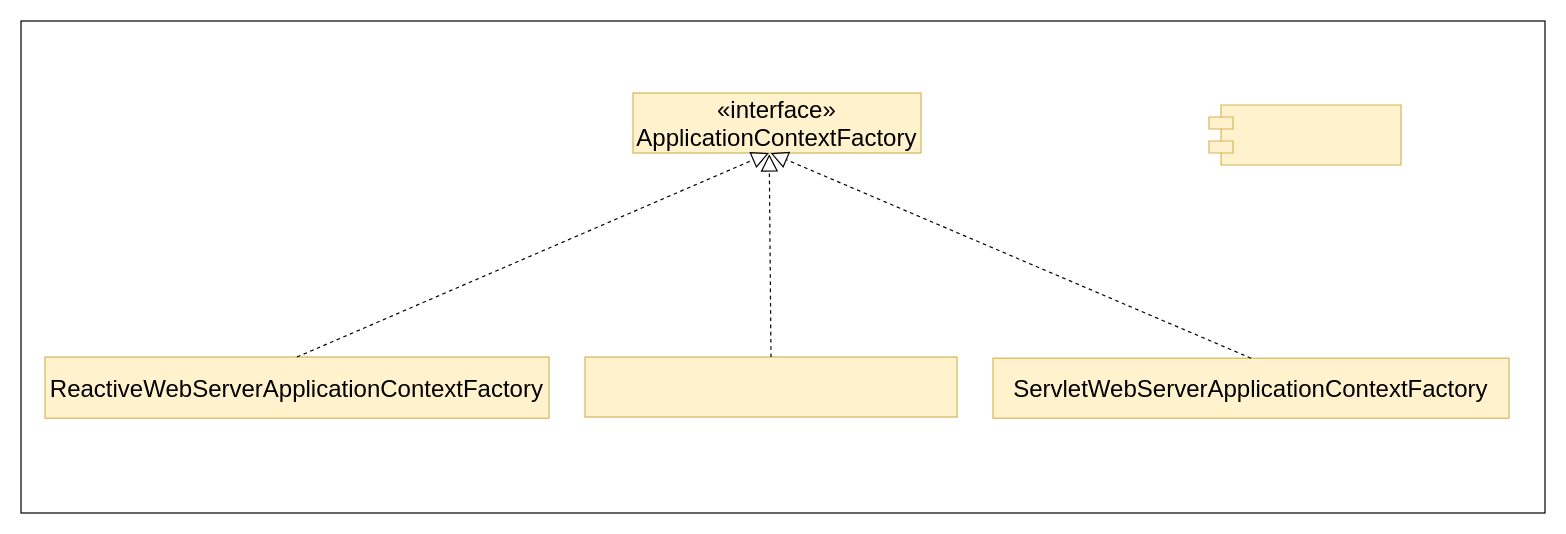
Image size: 1566x534. Some labels were removed from this diagram. Each missing label, with the centre of its shape:
"DefaultApplicationContextFactory" goes at point 770,386.
"springboot" goes at point 1304,134.
